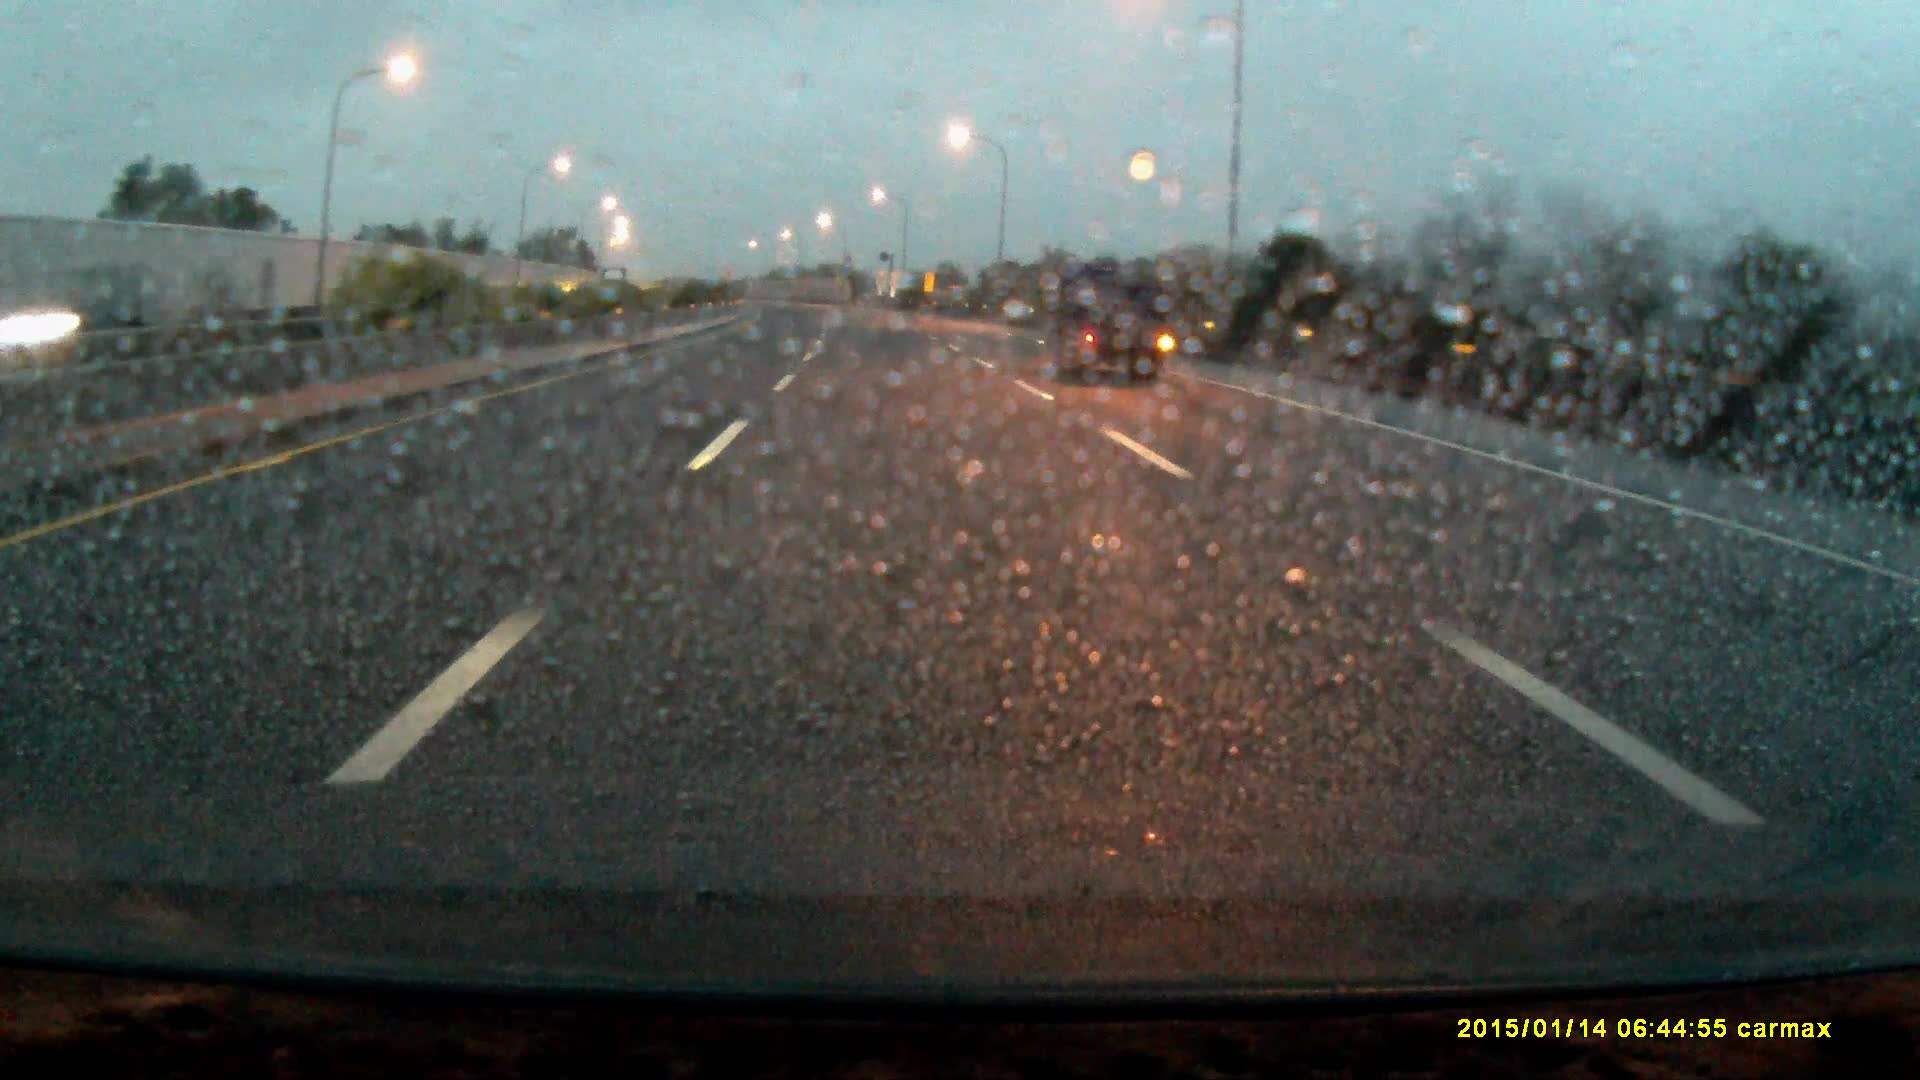vehicle: (1048, 262, 1174, 386), (601, 266, 628, 298)
